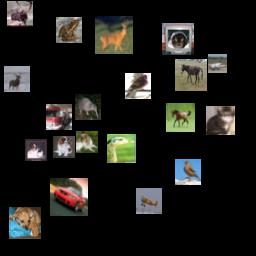airplane: (136, 188, 162, 214), (208, 54, 227, 73)
automobile: (50, 178, 88, 216)
bird: (107, 134, 136, 163), (125, 73, 151, 99), (75, 94, 101, 120), (175, 159, 201, 185)
cat: (162, 23, 194, 55), (206, 106, 235, 135)
deer: (95, 16, 133, 54), (4, 66, 30, 92), (7, 1, 33, 27)
dog: (9, 207, 41, 239), (76, 131, 98, 153), (25, 139, 47, 161), (53, 136, 75, 158)
frog: (56, 17, 82, 43)
truck: (46, 104, 72, 130)
